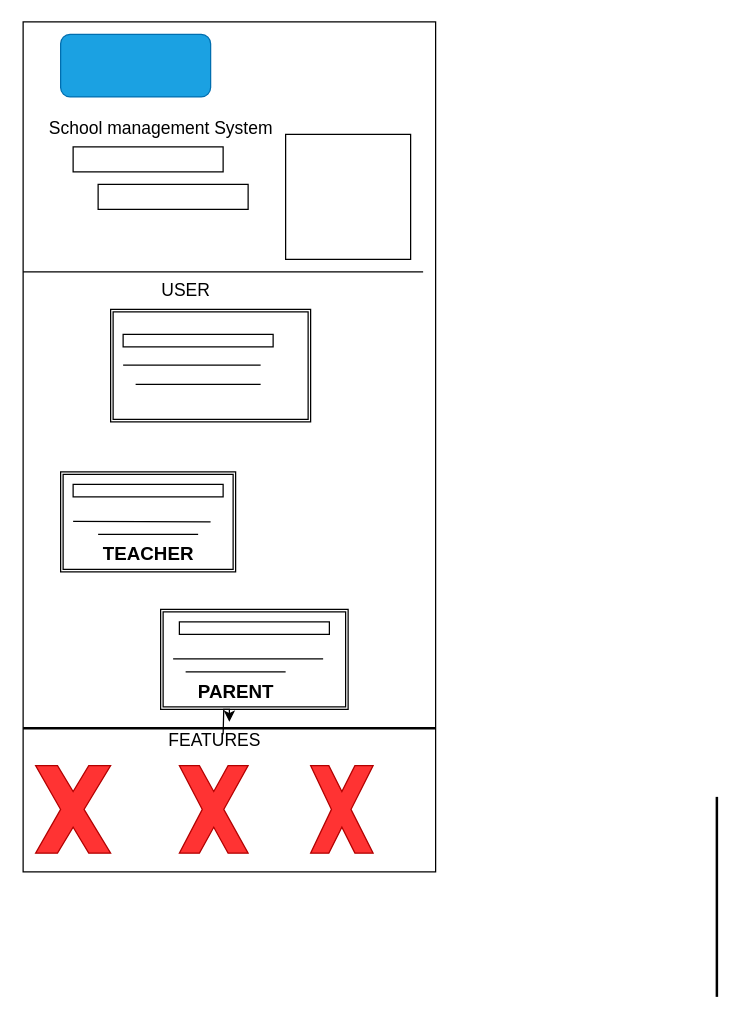
The diagram is 745 pixels wide and 1020 high, and some of its shapes have lost their labels. Here are the shapes that lost their labels. From the top down, the centre of each, then its label:
the point at 135,65: LOGO
the point at 210,365: STUDENT
